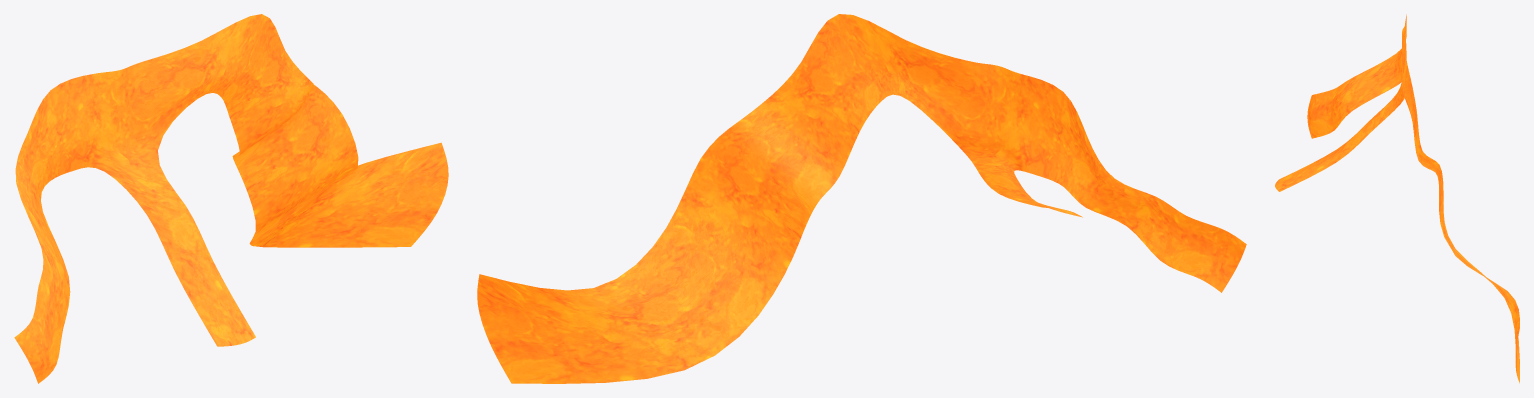
The model's file is Level2_Lave_A.fbx.
3 renders of one model, left to right at view 1: azimuth 30°, elevation 25°; view 2: azimuth 150°, elevation 25°; view 3: azimuth 270°, elevation 25°, orthographic. The views are drawn at different scales.
Parts seen in each view (by area): view 1: Level2_Lava_A; view 2: Level2_Lava_A; view 3: Level2_Lava_A.
Part boxes in pixels (x1,y1,x2,y2): Level2_Lava_A: (14,14,448,383); Level2_Lava_A: (477,14,1246,383); Level2_Lava_A: (1275,14,1519,383).
Bounding box in the file's own units: 9479 × 5438 × 5045.
